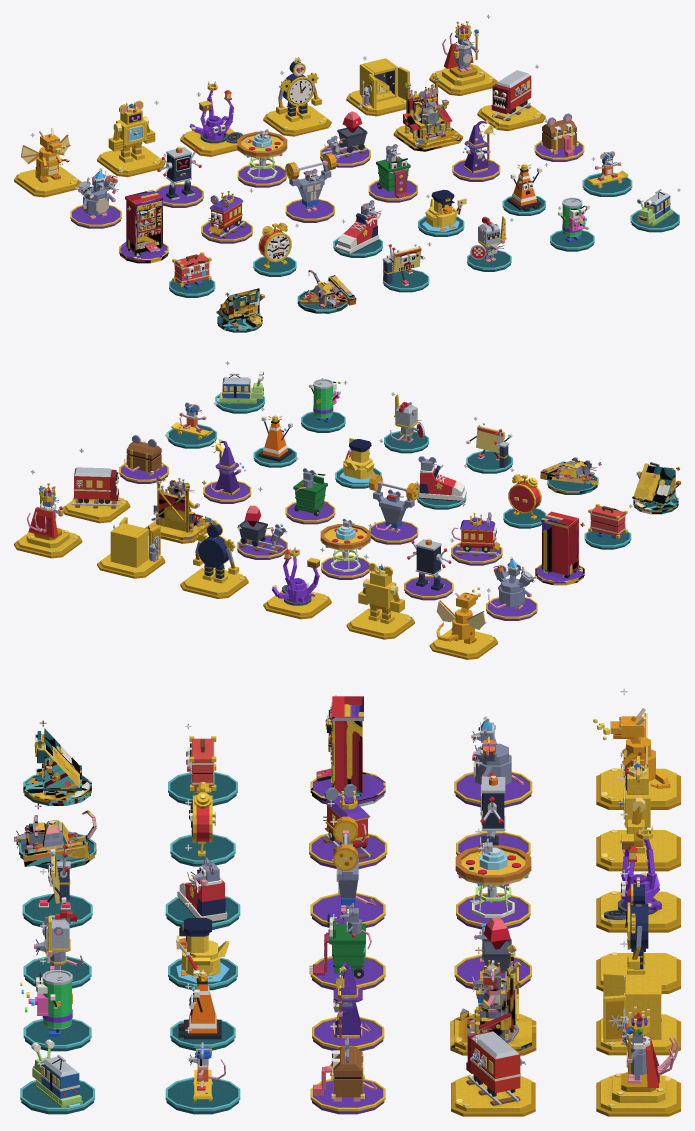
File: Boss3Creatures_all.fbx
3 renders of one model, top to bottom at view 1: azimuth 30°, elevation 25°; view 2: azimuth 150°, elevation 25°; view 3: azimuth 270°, elevation 25°, orthographic. The views are drawn at different scales.
Visible parts, largest first — view 1: Art_RatThrone_Stand, Art_DevourerVending_Body, Art_ThreeTailEmperor_Stand, Art_CheeseDragon_Stand, Art_ClockGolem_Stand, Art_GoldenRatMech_Stand, Art_MonsterTrain_Stand, Art_MonsterTrain_Body, Art_SubwayOctopus_Stand, Art_CheeseVaultHeart_Body, Art_SneakerTenant_Body, Art_RunawayTicket_Stand (+35 smaller); view 2: Art_RatThrone_Stand, Art_DevourerVending_Body, Art_CheeseVaultHeart_Body, Art_LiveCheeseMonster_Body, Art_MonsterTrain_Body, Art_ThreeTailEmperor_Stand, Art_GoldenRatMech_Stand, Art_ClockGolem_Stand, Art_MonsterTrain_Stand, Art_CheeseDragon_Stand, Art_SubwayOctopus_Stand, Art_SneakerTenant_Body (+43 smaller); view 3: Art_ThreeTailEmperor_Stand, Art_RatThrone_Stand, Art_DevourerVending_Body, Art_MonsterTrain_Stand, Art_MonsterTrain_Body, Art_GoldenRatMech_Stand, Art_SubwayOctopus_Stand, Art_PizzaUfo_Ufo, Art_CheeseDragon_Stand, Art_CheeseSkater_Stand, Art_ClockGolem_Stand, Art_RunawayTicket_Stand (+47 smaller).
Boxes of the visible parts, x1,y1,x2,y2 form: Art_RatThrone_Stand: (393,75,462,151); Art_DevourerVending_Body: (125,189,162,253); Art_ThreeTailEmperor_Stand: (429,14,497,95); Art_CheeseDragon_Stand: (14,132,81,197); Art_ClockGolem_Stand: (263,70,331,136); Art_GoldenRatMech_Stand: (97,100,165,177); Art_MonsterTrain_Stand: (477,64,545,131); Art_MonsterTrain_Body: (492,70,531,111); Art_SubwayOctopus_Stand: (180,92,242,156); Art_CheeseVaultHeart_Body: (359,58,397,101); Art_SneakerTenant_Body: (335,212,379,253); Art_RunawayTicket_Stand: (382,242,431,292); Art_RatThrone_Stand: (145,475,211,543); Art_DevourerVending_Body: (541,511,578,575); Art_CheeseVaultHeart_Body: (110,523,148,567); Art_LiveCheeseMonster_Body: (632,462,676,505); Art_MonsterTrain_Body: (73,467,118,499); Art_ThreeTailEmperor_Stand: (14,469,82,558); Art_GoldenRatMech_Stand: (346,554,414,639); Art_ClockGolem_Stand: (180,525,248,598); Art_MonsterTrain_Stand: (62,448,130,523); Art_CheeseDragon_Stand: (429,588,497,659); Art_SubwayOctopus_Stand: (263,547,331,619); Art_SneakerTenant_Body: (419,467,466,501); Art_ThreeTailEmperor_Stand: (596,1013,680,1116); Art_RatThrone_Stand: (450,944,536,1055); Art_DevourerVending_Body: (328,696,363,792); Art_MonsterTrain_Stand: (451,1035,535,1116); Art_MonsterTrain_Body: (467,1031,520,1093); Art_GoldenRatMech_Stand: (596,775,680,871); Art_SubwayOctopus_Stand: (596,811,680,932); Art_PizzaUfo_Ufo: (455,845,531,886); Art_CheeseDragon_Stand: (596,688,680,809); Art_CheeseSkater_Stand: (165,1027,240,1114); Art_ClockGolem_Stand: (596,870,680,993); Art_RunawayTicket_Stand: (22,861,92,928).
Size of the model in its own units: 33.5 by 4.55 by 27.55.
